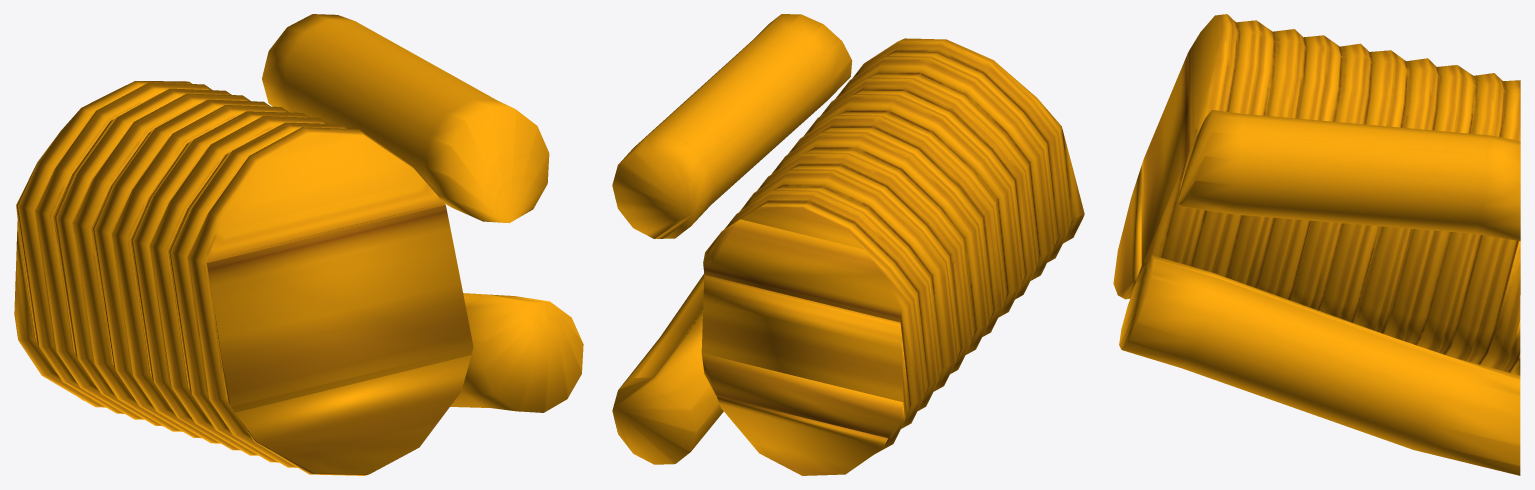
The model's file is Tatarapang_terpotong2.fbx.
3 renders of one model, left to right at view 1: azimuth 30°, elevation 25°; view 2: azimuth 150°, elevation 25°; view 3: azimuth 270°, elevation 25°, orthographic. The views are drawn at different scales.
Parts seen in each view (by area): view 1: sarung1-lp.001_Material-Sarung1_0.003; view 2: sarung1-lp.001_Material-Sarung1_0.003; view 3: sarung1-lp.001_Material-Sarung1_0.003.
Part boxes in pixels (left/top/right/bottom): sarung1-lp.001_Material-Sarung1_0.003: left=14, top=14, right=583, bottom=475; sarung1-lp.001_Material-Sarung1_0.003: left=612, top=14, right=1084, bottom=475; sarung1-lp.001_Material-Sarung1_0.003: left=1113, top=14, right=1520, bottom=475.
Size of the model in its own units: 13.99 by 16.17 by 16.07.
2 materials, 2 textured.
